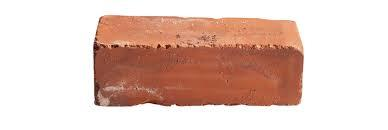Bricks: (92, 15, 305, 106)
